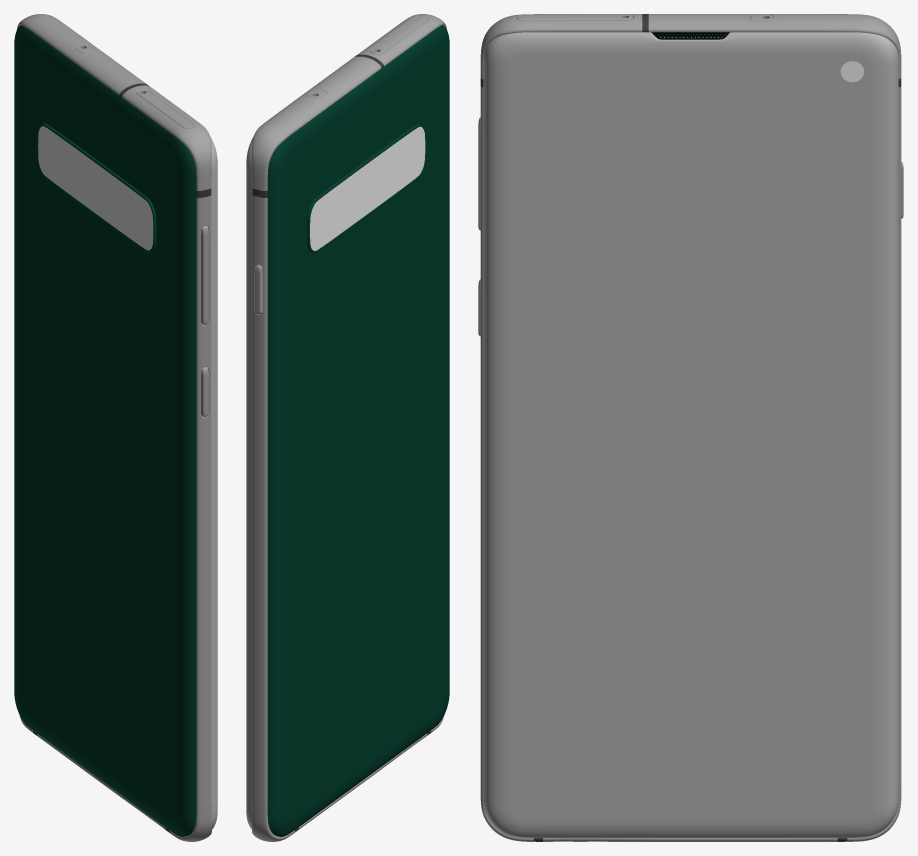
File: GalaxyS10.gltf
The picture shows the model from 3 angles, left to right: view 1: azimuth 30°, elevation 25°; view 2: azimuth 150°, elevation 25°; view 3: azimuth 270°, elevation 25°; orthographic projection. The views are drawn at different scales.
Visible parts, largest first — view 1: Phone, Frame, glass, Frame.cam; view 2: Phone, Frame, glass, Frame.cam; view 3: Phone, Frame.
Part boxes in pixels (x1,y1,x2,y2): Phone: [14, 25, 217, 836]; Frame: [17, 14, 211, 841]; glass: [38, 126, 153, 250]; Frame.cam: [36, 123, 156, 252]; Phone: [246, 25, 449, 836]; Frame: [252, 14, 446, 841]; glass: [310, 126, 425, 250]; Frame.cam: [307, 123, 426, 253]; Phone: [483, 32, 898, 837]; Frame: [478, 14, 903, 841].
Bounding box in the file's own units: 0.00849 × 0.1506 × 0.0707.
